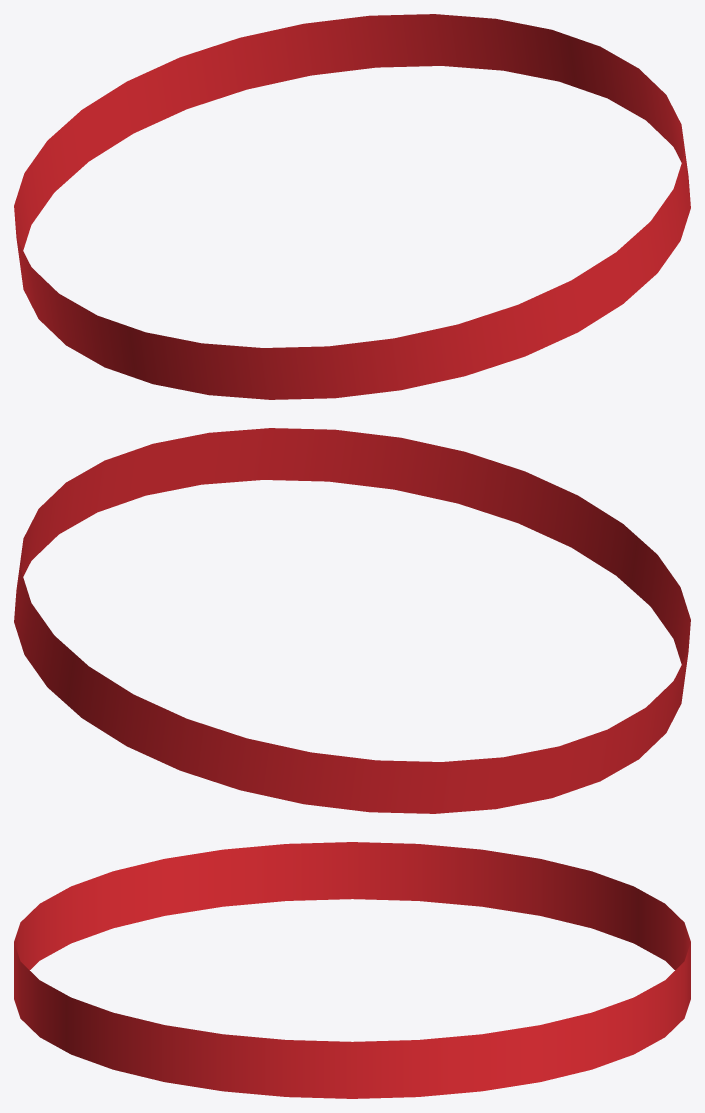
File: crown.glb
The picture shows the model from 3 angles, top to bottom: view 1: azimuth 30°, elevation 25°; view 2: azimuth 150°, elevation 25°; view 3: azimuth 270°, elevation 25°; orthographic projection.
Visible parts, largest first — view 1: Circle; view 2: Circle; view 3: Circle.
Boxes of the visible parts, box(x1,y1,x2,y2) form: Circle: box(14, 14, 690, 399); Circle: box(14, 428, 690, 813); Circle: box(14, 842, 690, 1098).
Size of the model in its own units: 27.44 by 6.12 by 27.37.
